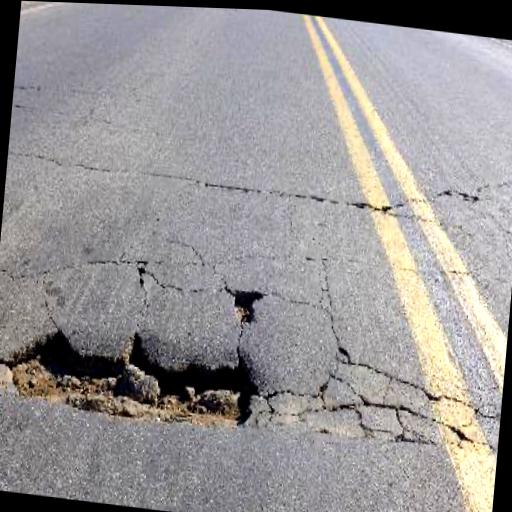pothole: (0, 311, 271, 436), (228, 283, 267, 326)
